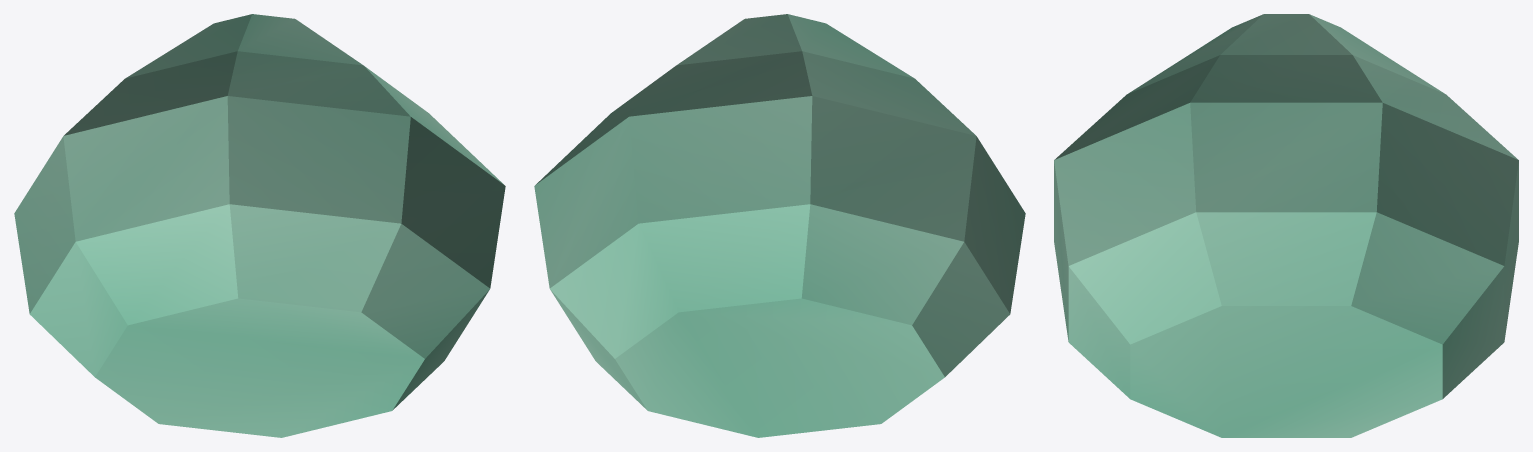
Rendered from token_emerald.glb.
The picture shows the model from 3 angles, left to right: view 1: azimuth 30°, elevation 25°; view 2: azimuth 150°, elevation 25°; view 3: azimuth 270°, elevation 25°; orthographic projection.
Visible parts, largest first — view 1: Emerald; view 2: Emerald; view 3: Emerald.
Part boxes in pixels (<box>): Emerald: <box>14,14,505,437</box>; Emerald: <box>534,14,1025,437</box>; Emerald: <box>1054,14,1518,437</box>.
Bounding box in the file's own units: 1.18 × 0.94 × 1.18.
